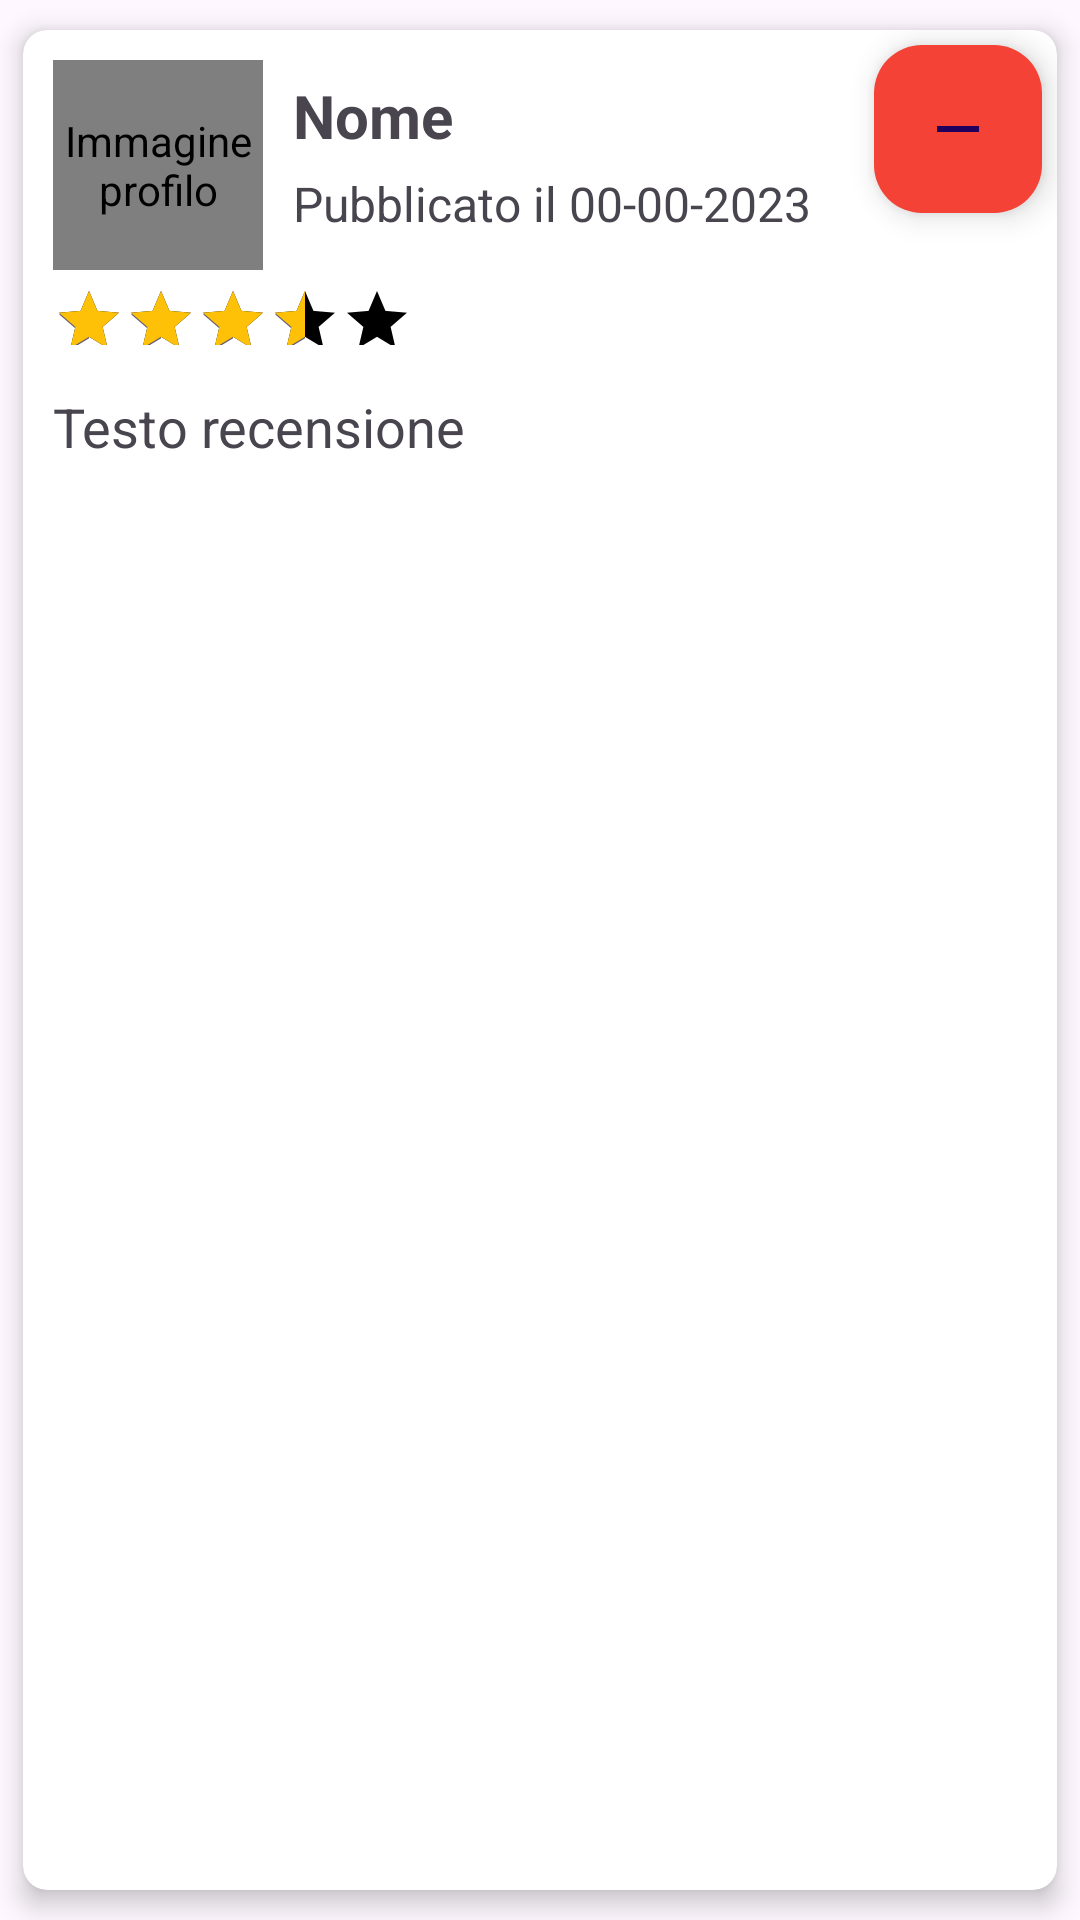

Where icons sit on this 1080×1920 app screen, as BBox(x1, y1, x2, y2):
Rimuovi: BBox(874, 45, 1042, 213)
